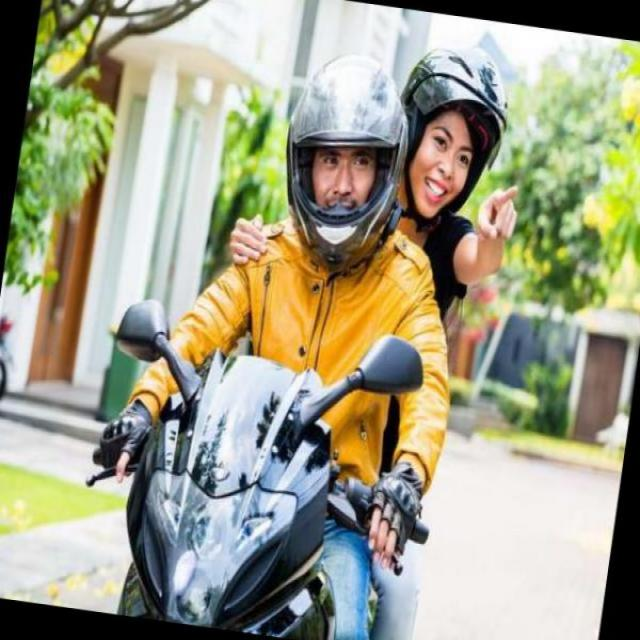Helmet: (398, 29, 534, 246), (284, 49, 413, 258)
